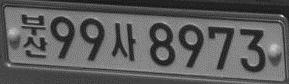3: (239, 27, 266, 72)
7: (207, 25, 235, 71)
8: (147, 21, 175, 67)
9: (79, 17, 105, 61), (177, 23, 203, 67), (49, 15, 74, 59)
부산_V: (20, 13, 47, 59)
사: (110, 22, 137, 61)
